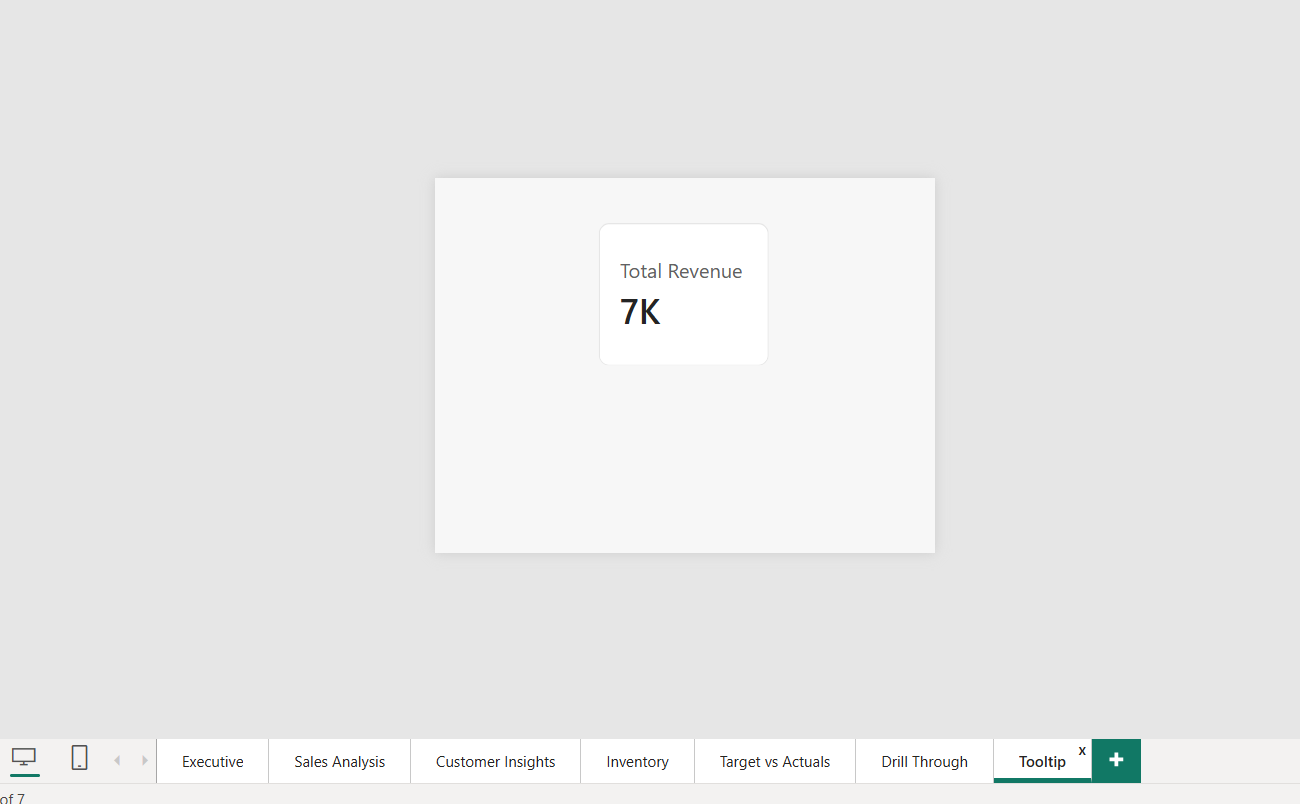

Layout of this report page (visuals, bound fields, positions):
{"tool":"powerbi","page":{"name":"Tooltip","canvas":[400,300],"ordinal":6},"visuals":[{"type":"cardVisual","fields":{"Data":["Customers.Total Revenue"]},"box":[131,36,136,114],"z":0}]}

Visuals, with their boxes on the page's 400x300 design canvas (x1, y1, x2, y2). These are canvas units, not pixel positions in the 1300x804 screenshot, which may show the page scaled, cropped or inside an application window:
cardVisual - Customers.Total Revenue: detection(131, 36, 267, 150)
